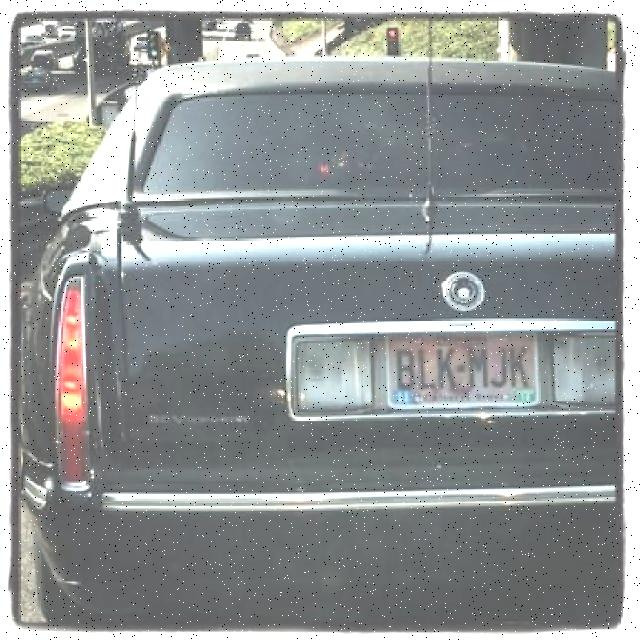license_plate: (296, 336, 618, 410)
